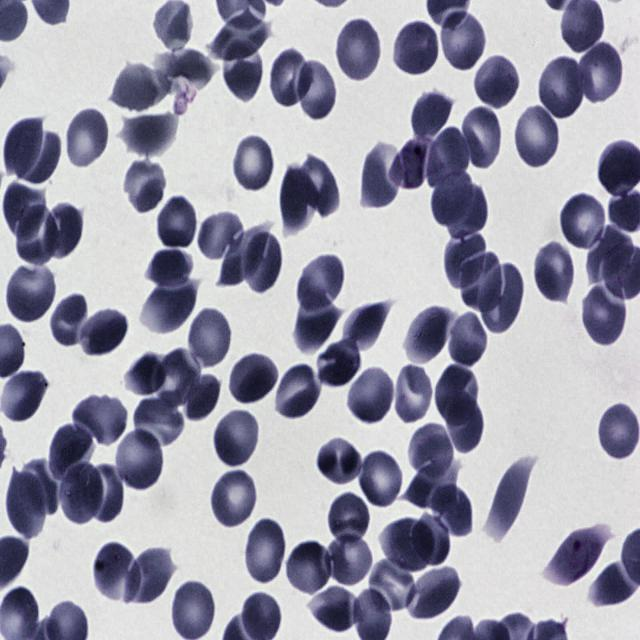red blood cell: (585, 222, 635, 294), (540, 53, 592, 120), (4, 261, 58, 325), (88, 541, 142, 605), (512, 103, 562, 172), (492, 454, 532, 540), (574, 40, 626, 106), (108, 60, 170, 114), (120, 108, 182, 162), (156, 47, 221, 98), (116, 426, 163, 496), (336, 15, 383, 84), (126, 544, 178, 606), (208, 466, 258, 530), (438, 9, 488, 73), (405, 301, 454, 365), (277, 160, 318, 236), (355, 448, 406, 509), (188, 306, 235, 372), (407, 420, 457, 482), (346, 365, 395, 428), (4, 474, 48, 544), (0, 363, 47, 428), (245, 515, 288, 586), (273, 361, 323, 421), (0, 178, 46, 243), (133, 392, 188, 446), (75, 392, 128, 448), (378, 518, 434, 571), (408, 562, 460, 619), (57, 465, 104, 528), (64, 107, 110, 171), (482, 260, 524, 330), (456, 252, 500, 318), (299, 251, 347, 311), (293, 59, 337, 124), (358, 143, 398, 214), (239, 225, 280, 294), (230, 132, 276, 193), (434, 362, 480, 423), (122, 157, 170, 215), (394, 20, 441, 79), (154, 349, 201, 408), (582, 284, 628, 344), (220, 45, 266, 104), (473, 54, 521, 110), (370, 550, 414, 611), (462, 105, 502, 172), (286, 540, 332, 598), (560, 190, 606, 248), (533, 241, 576, 303), (427, 127, 472, 186), (41, 199, 85, 259), (300, 157, 341, 221), (597, 401, 640, 462), (310, 581, 360, 633), (85, 462, 124, 528), (19, 456, 61, 517), (392, 365, 432, 429), (446, 310, 489, 369), (410, 88, 456, 143), (445, 394, 485, 457), (48, 294, 92, 351), (430, 172, 476, 226), (78, 308, 129, 356), (148, 278, 196, 329), (270, 48, 310, 109), (294, 300, 340, 353), (178, 366, 220, 424), (172, 582, 214, 640), (444, 183, 488, 238), (228, 356, 278, 404), (214, 412, 258, 466), (157, 195, 199, 251), (316, 437, 364, 486), (341, 303, 390, 351), (11, 211, 55, 264), (207, 19, 268, 57), (4, 116, 44, 172), (51, 425, 94, 477), (328, 490, 370, 543), (406, 464, 456, 508), (196, 215, 242, 262), (326, 536, 371, 584), (21, 130, 60, 185), (148, 245, 196, 288), (445, 238, 486, 287), (431, 487, 472, 535), (412, 515, 451, 564), (318, 344, 360, 386), (126, 354, 167, 397), (221, 230, 252, 284)
ring: (549, 529, 613, 585), (392, 140, 428, 191)
